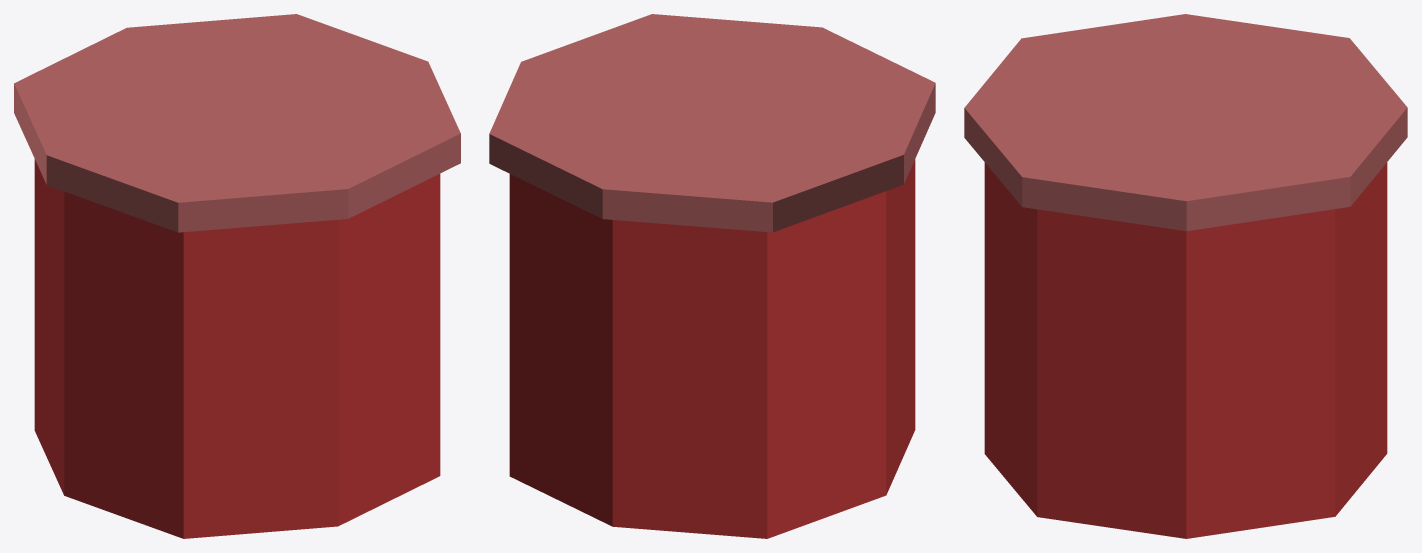
Rendered from Kitchen_Jar4.fbx.
3 views of the same model, side by side, from view 1: azimuth 30°, elevation 25°; view 2: azimuth 150°, elevation 25°; view 3: azimuth 270°, elevation 25° (orthographic).
Visible parts, largest first — view 1: Kitchen_Jar4; view 2: Kitchen_Jar4; view 3: Kitchen_Jar4.
Boxes of the visible parts, left/top/right/bottom form: Kitchen_Jar4: left=14, top=14, right=460, bottom=538; Kitchen_Jar4: left=489, top=14, right=935, bottom=538; Kitchen_Jar4: left=964, top=14, right=1407, bottom=538.
Size of the model in its own units: 27.94 by 24.09 by 27.94.
